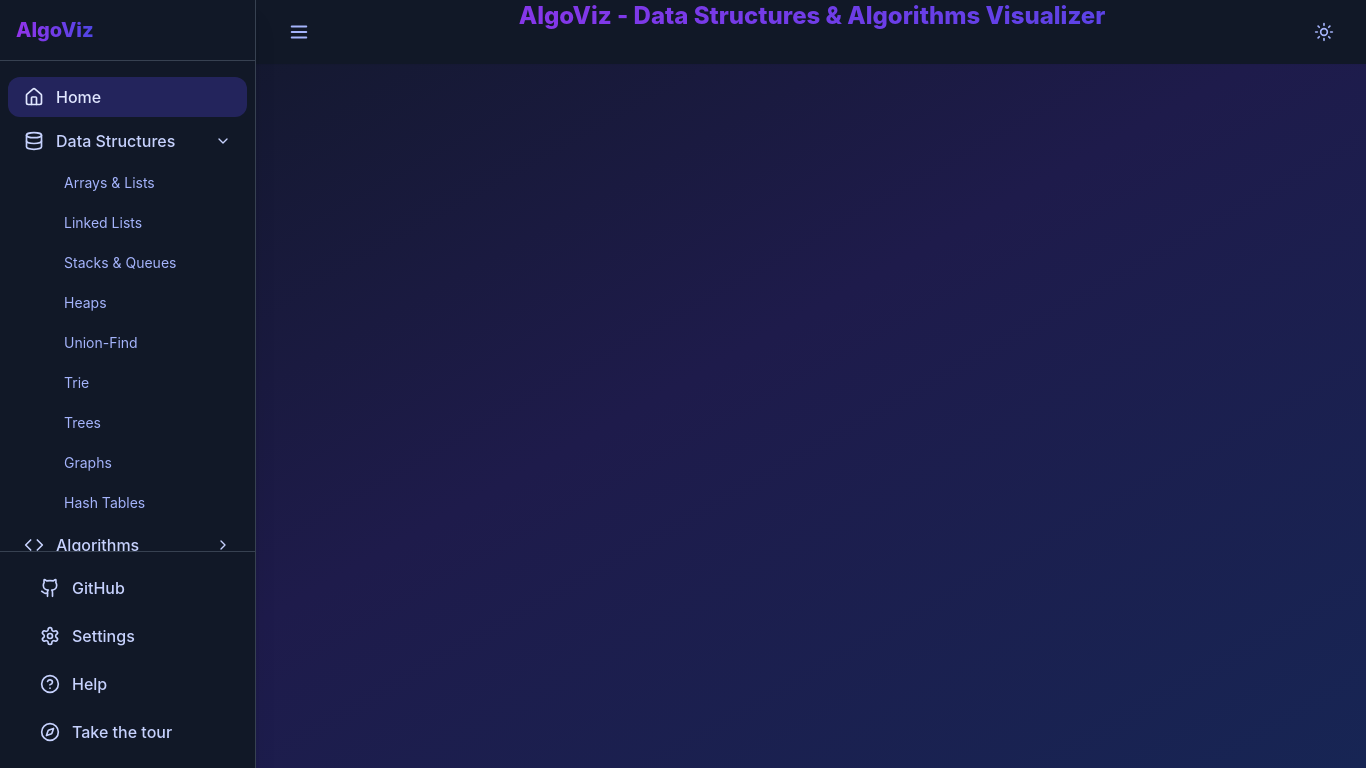
Test case: sidebar usefulness (open + collapsed) › clicking a collapsed category re-opens the rail and expands it
Step 1. Click the button named "Toggle navigation" → point(299, 32), box [280,13,318,51]
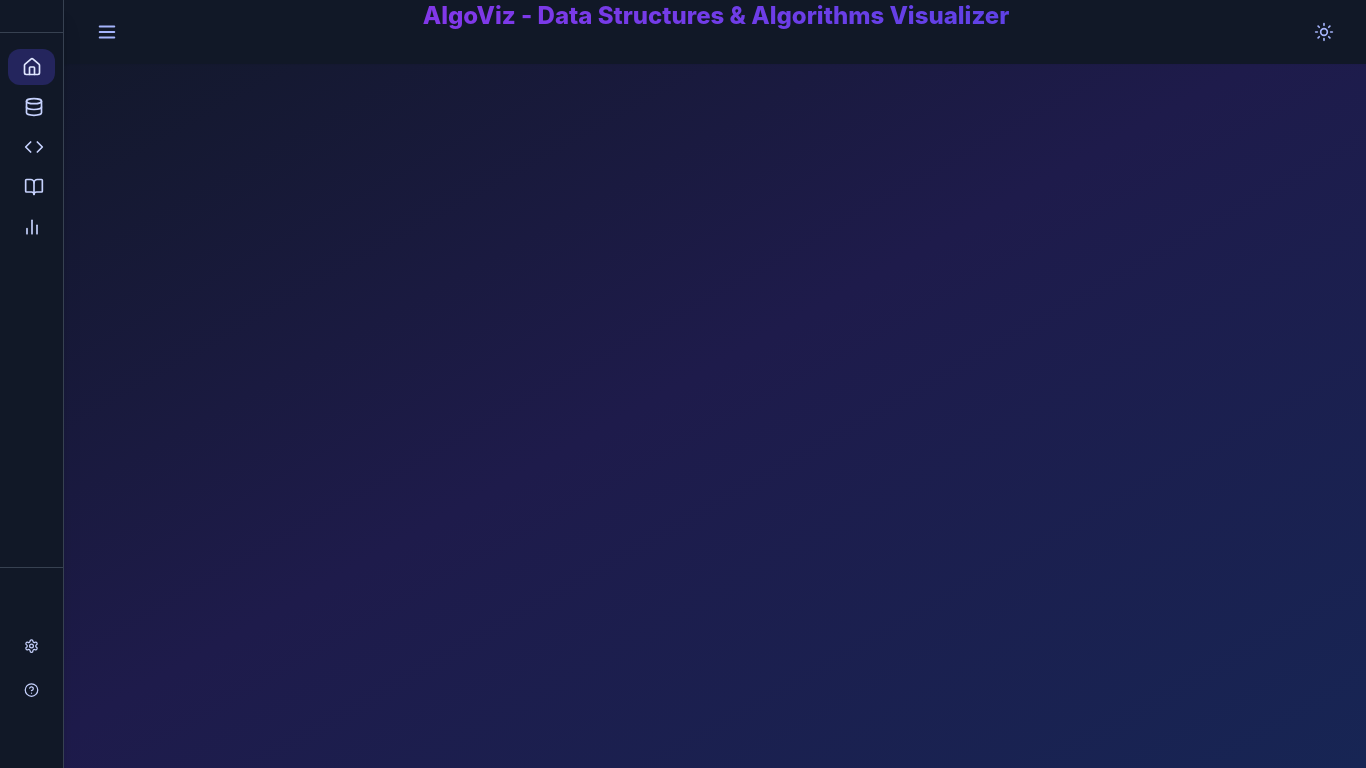
Expected: the link "Trees" is gone
Step 2. Click the button named "Data Structures" → point(32, 107), box [8,89,55,125]
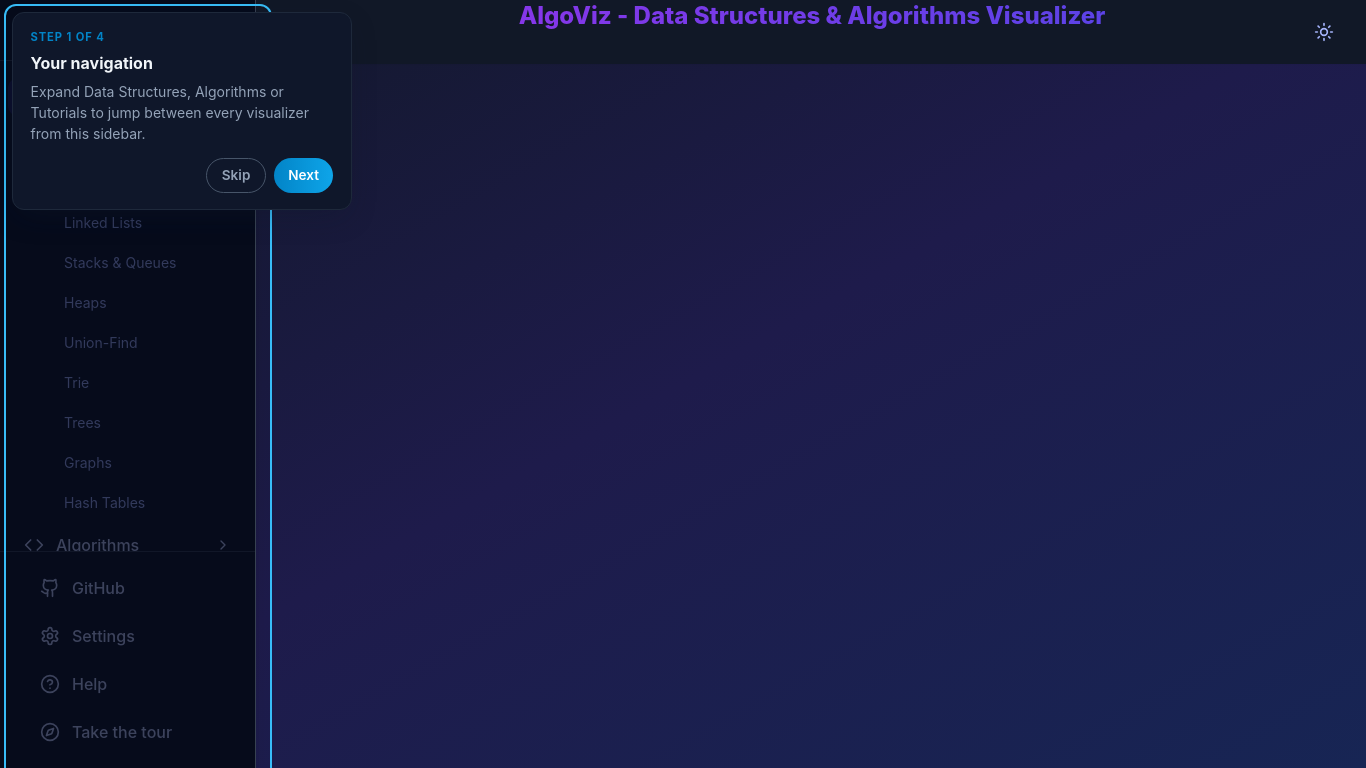
Expected: the link "Trees" is shown, [64,414,101,431]
